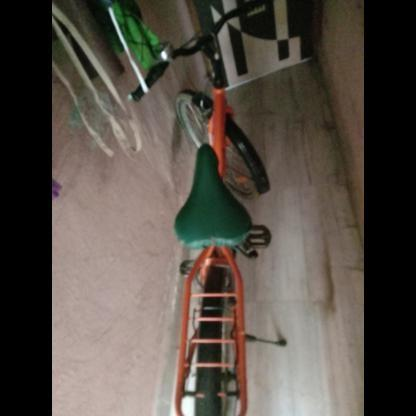Bicycle: (117, 0, 295, 416)
